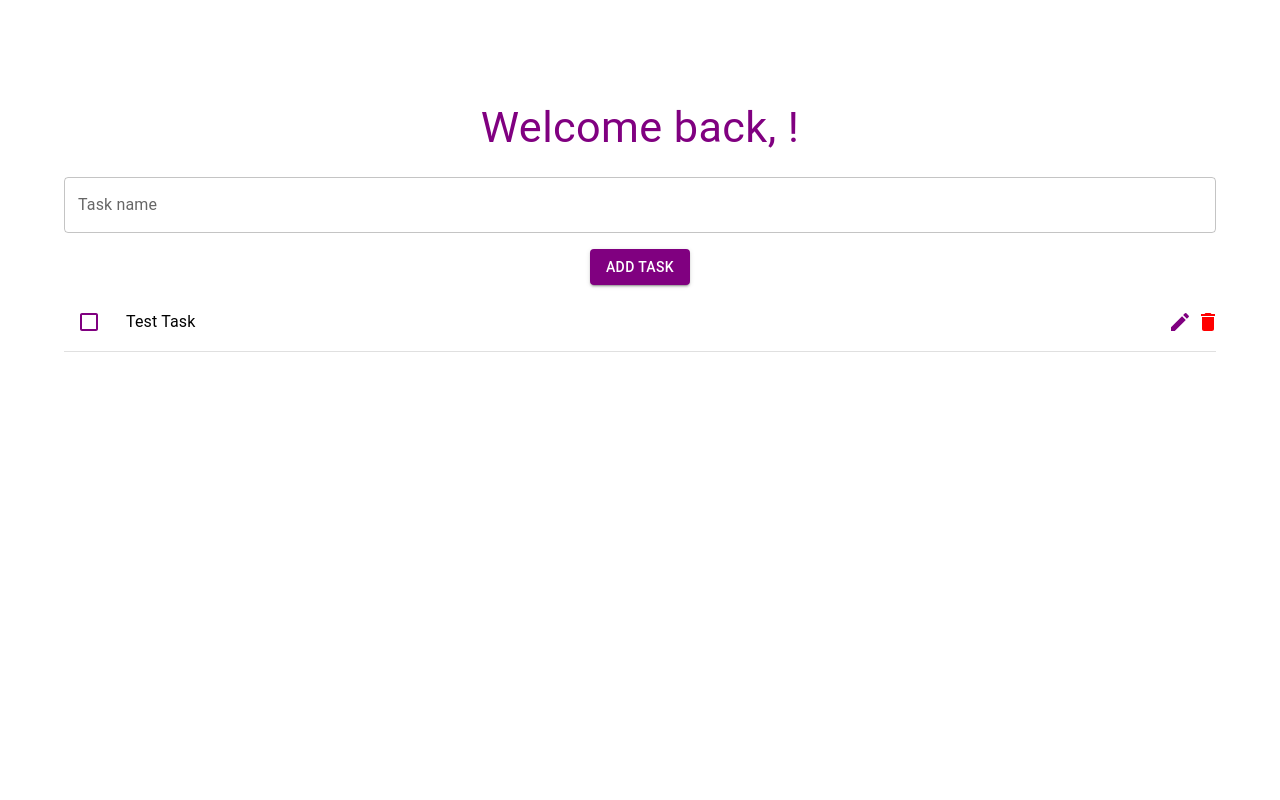
Test: ItemsList Component › should open and close the edit modal
Click the button named "edit" at {"x": 1180, "y": 322}, box [1160, 302, 1200, 342]
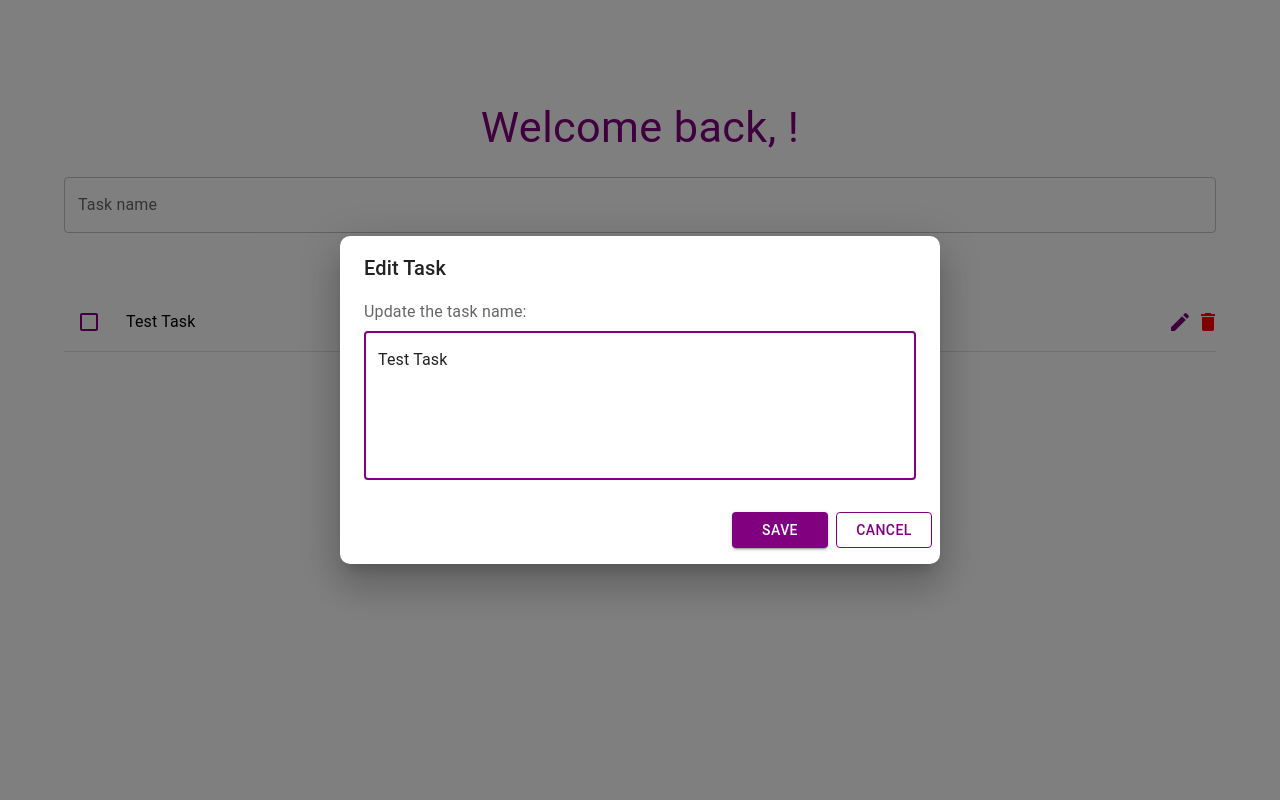
Now the heading "Edit Task" is shown, box [364, 256, 446, 280]
Click the button "Cancel" at {"x": 884, "y": 530}, box [836, 512, 932, 548]
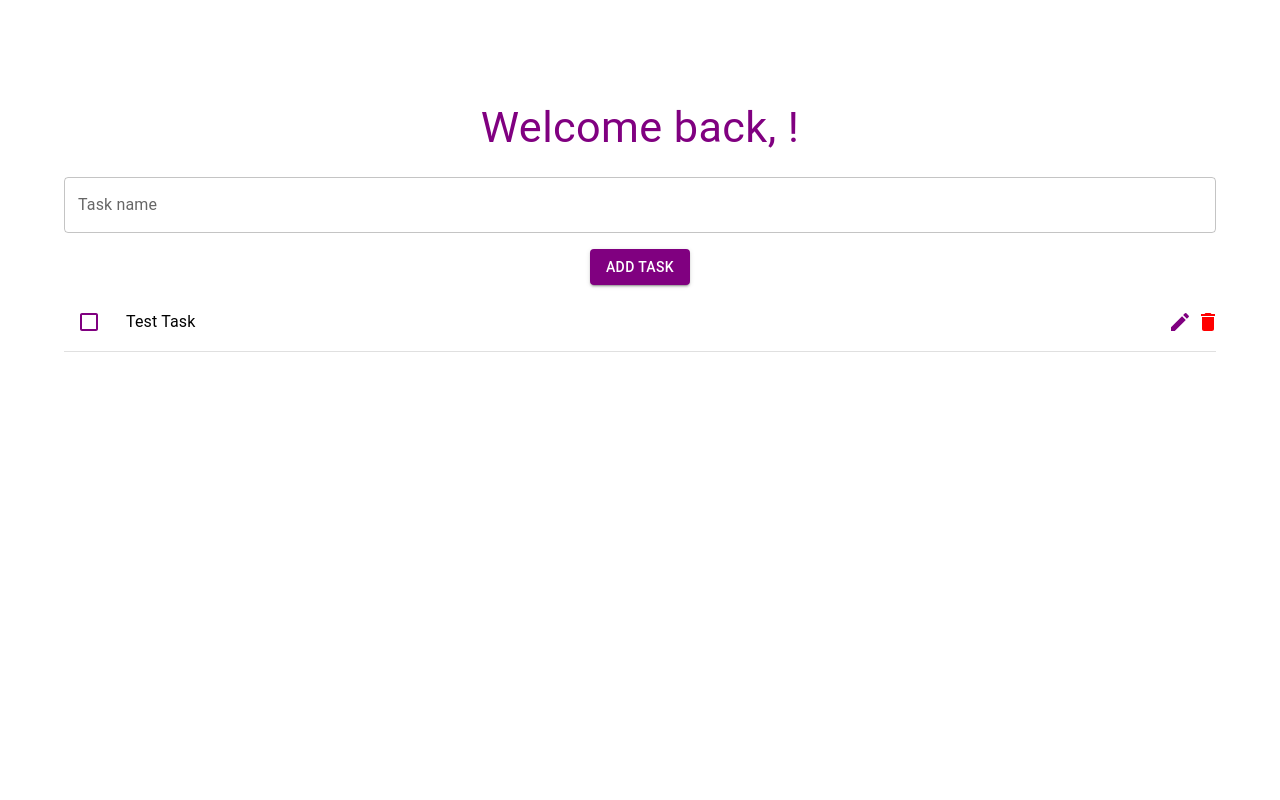
Now the heading "Edit Task" is gone
